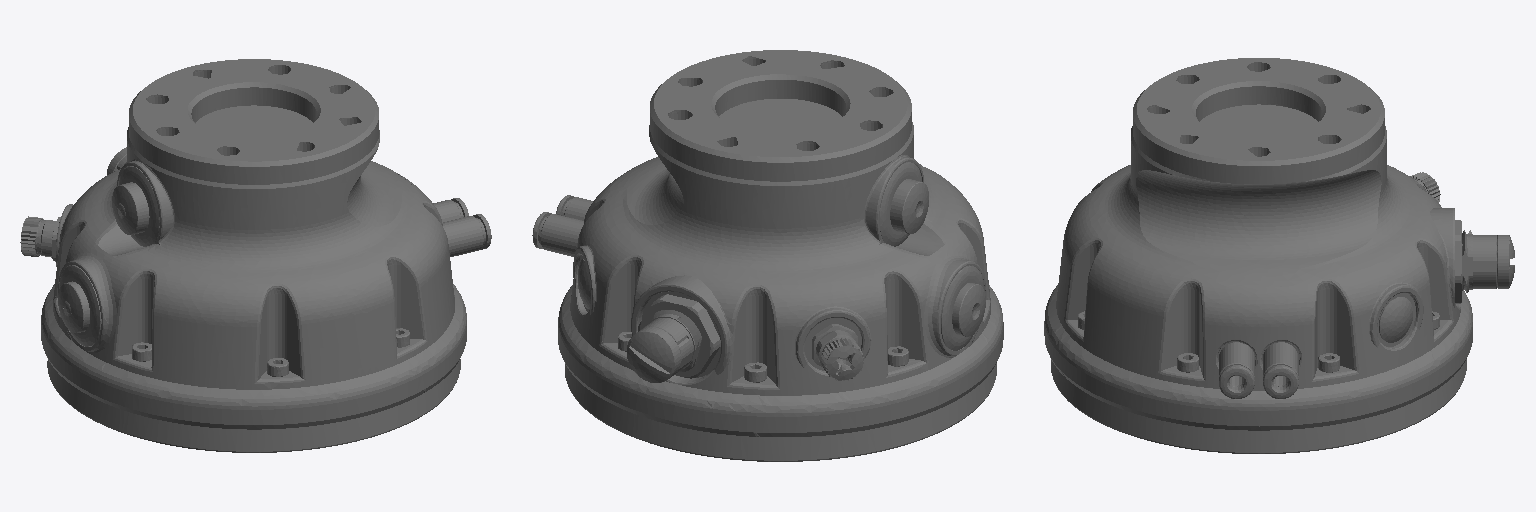
URDF robot description (iiwa):
<?xml version="1.0" ?>
<!-- =================================================================================== -->
<!-- |    This document was autogenerated by xacro from iiwa.config.xacro              | -->
<!-- |    EDITING THIS FILE BY HAND IS NOT RECOMMENDED                                 | -->
<!-- =================================================================================== -->
<!-- Kuka iiwa 7DoF manipulator -->
<robot name="iiwa">
  <!-- Used for fixing robot -->
  <link name="world"/>
  <material name="gray">
    <color rgba="0.5 0.5 0.5 1.0"/>
  </material>
  <link name="iiwa_base" type="fixed"/>
  <joint name="iiwa_root_joint" type="fixed">
    <origin rpy="0 0 0" xyz="0 0 0 "/>
    <parent link="world"/>
    <child link="iiwa_base"/>
  </joint>
  <joint name="iiwa_base_joint" type="fixed">
    <origin rpy="0.0 0 0" xyz="0 0 0"/>
    <parent link="iiwa_base"/>
    <child link="link_0"/>
  </joint>
  <link name="link_0">
    <visual>
      <origin rpy="0.0 0 0" xyz="0 0 0"/>
      <geometry>
        <mesh filename="package://wbc_ros/models/meshes/lbr_iiwa_14_r820/visual/base_link.dae"/>
      </geometry>
    </visual>
    <collision>
      <origin rpy="0 0 0" xyz="0 0 0"/>
      <geometry>
        <mesh filename="package://wbc_ros/models/meshes/lbr_iiwa_14_r820/collision/base_link.stl"/>
      </geometry>
    </collision>
    <inertial>
      <origin rpy="0 0 0" xyz="-0.1 0 0.07"/>
      <mass value="5"/>
      <inertia ixx="0.05" ixy="0" ixz="0" iyy="0.06" iyz="0" izz="0.03"/>
    </inertial>
  </link>
  <link name="link_1">
    <visual>
      <origin rpy="0 0 0" xyz="0 0 0"/>
      <geometry>
        <mesh filename="package://wbc_ros/models/meshes/lbr_iiwa_14_r820/visual/link_1.dae"/>
      </geometry>
    </visual>
    <collision>
      <origin rpy="0 0 0" xyz="0 0 0"/>
      <geometry>
        <mesh filename="package://wbc_ros/models/meshes/lbr_iiwa_14_r820/collision/link_1.stl"/>
      </geometry>
    </collision>
    <inertial>
      <origin rpy="0 0 0" xyz="0 -0.03 0.12"/>
      <mass value="4"/>
      <inertia ixx="0.1" ixy="0" ixz="0" iyy="0.09" iyz="0" izz="0.02"/>
    </inertial>
  </link>
  <link name="link_2">
    <visual>
      <origin rpy="0 0 0" xyz="0 0 0"/>
      <geometry>
        <mesh filename="package://wbc_ros/models/meshes/lbr_iiwa_14_r820/visual/link_2.dae"/>
      </geometry>
    </visual>
    <collision>
      <origin rpy="0 0 0" xyz="0 0 0"/>
      <geometry>
        <mesh filename="package://wbc_ros/models/meshes/lbr_iiwa_14_r820/collision/link_2.stl"/>
      </geometry>
    </collision>
    <inertial>
      <origin rpy="0 0 0" xyz="0.0003 0.059 0.042"/>
      <mass value="4"/>
      <inertia ixx="0.05" ixy="0" ixz="0" iyy="0.018" iyz="0" izz="0.044"/>
    </inertial>
  </link>
  <link name="link_3">
    <visual>
      <origin rpy="0 0 0" xyz="0 0 0"/>
      <geometry>
        <mesh filename="package://wbc_ros/models/meshes/lbr_iiwa_14_r820/visual/link_3.dae"/>
      </geometry>
    </visual>
    <collision>
      <origin rpy="0 0 0" xyz="0 0 0"/>
      <geometry>
        <mesh filename="package://wbc_ros/models/meshes/lbr_iiwa_14_r820/collision/link_3.stl"/>
      </geometry>
    </collision>
    <inertial>
      <origin rpy="0 0 0" xyz="0 0.03 0.13"/>
      <mass value="3"/>
      <inertia ixx="0.08" ixy="0" ixz="0" iyy="0.075" iyz="0" izz="0.01"/>
    </inertial>
  </link>
  <link name="link_4">
    <visual>
      <origin rpy="0 0 0" xyz="0 0 0"/>
      <geometry>
        <mesh filename="package://wbc_ros/models/meshes/lbr_iiwa_14_r820/visual/link_4.dae"/>
      </geometry>
    </visual>
    <collision>
      <origin rpy="0 0 0" xyz="0 0 0"/>
      <geometry>
        <mesh filename="package://wbc_ros/models/meshes/lbr_iiwa_14_r820/collision/link_4.stl"/>
      </geometry>
    </collision>
    <inertial>
      <origin rpy="0 0 0" xyz="0 0.067 0.034"/>
      <mass value="2.7"/>
      <inertia ixx="0.03" ixy="0" ixz="0" iyy="0.01" iyz="0" izz="0.029"/>
    </inertial>
  </link>
  <link name="link_5">
    <visual>
      <origin rpy="0 0 0" xyz="0 0 0"/>
      <geometry>
        <mesh filename="package://wbc_ros/models/meshes/lbr_iiwa_14_r820/visual/link_5.dae"/>
      </geometry>
    </visual>
    <collision>
      <origin rpy="0 0 0" xyz="0 0 0"/>
      <geometry>
        <mesh filename="package://wbc_ros/models/meshes/lbr_iiwa_14_r820/collision/link_5.stl"/>
      </geometry>
    </collision>
    <inertial>
      <origin rpy="0 0 0" xyz="0.0001 0.021 0.076"/>
      <mass value="1.7"/>
      <inertia ixx="0.02" ixy="0" ixz="0" iyy="0.018" iyz="0" izz="0.005"/>
    </inertial>
  </link>
  <link name="link_6">
    <visual>
      <origin rpy="0 0 0" xyz="0 0 0"/>
      <geometry>
        <mesh filename="package://wbc_ros/models/meshes/lbr_iiwa_14_r820/visual/link_6.dae"/>
      </geometry>
    </visual>
    <collision>
      <origin rpy="0 0 0" xyz="0 0 0"/>
      <geometry>
        <mesh filename="package://wbc_ros/models/meshes/lbr_iiwa_14_r820/collision/link_6.stl"/>
      </geometry>
    </collision>
    <inertial>
      <origin rpy="0 0 0" xyz="0 0.0006 0.0004"/>
      <mass value="1.8"/>
      <inertia ixx="0.025" ixy="0" ixz="0" iyy="0.0136" iyz="0" izz="0.0247"/>
    </inertial>
  </link>
  <link name="link_7">
    <visual>
      <origin rpy="0 0 0" xyz="0 0 0.07"/>
      <material name="gray"/>
      <geometry>
        <mesh filename="package://wbc_ros/models/meshes/lbr_iiwa_14_r820/visual/link_7_2.stl" scale="0.001 0.001 0.001"/>
      </geometry>
    </visual>
    <collision>
      <origin rpy="0 0 0" xyz="0 0 0.07"/>
      <geometry>
        <mesh filename="package://wbc_ros/models/meshes/lbr_iiwa_14_r820/collision/link_7_2.stl" scale="0.001 0.001 0.001"/>
      </geometry>
    </collision>
    <inertial>
      <origin rpy="0 0 0" xyz="0 0 0.02"/>
      <mass value="0.42857142857142855"/>
      <!--this is for the MFT Pneumatisch flange-->
      <inertia ixx="0.01" ixy="0" ixz="0" iyy="0.01" iyz="0" izz="0.01"/>
    </inertial>
  </link>
  <link name="tool0"/>
  <joint name="joint_a1" type="revolute">
    <origin rpy="0 0 0" xyz="0 0 0"/>
    <parent link="link_0"/>
    <child link="link_1"/>
    <axis xyz="0 0 1"/>
    <limit effort="320" lower="-2.9668" upper="2.9668" velocity="1.4834"/>
  </joint>
  <joint name="joint_a2" type="revolute">
    <origin rpy="0 0 0" xyz="-0.00043624 0 0.36"/>
    <parent link="link_1"/>
    <child link="link_2"/>
    <axis xyz="0 1 0"/>
    <limit effort="320" lower="-2.0942" upper="2.0942" velocity="1.4834"/>
  </joint>
  <joint name="joint_a3" type="revolute">
    <origin rpy="0 0 0" xyz="0 0 0"/>
    <parent link="link_2"/>
    <child link="link_3"/>
    <axis xyz="0 0 1"/>
    <limit effort="176" lower="-2.9668" upper="2.9668" velocity="1.7452"/>
  </joint>
  <joint name="joint_a4" type="revolute">
    <origin rpy="0 0 0" xyz="0.00043624 0 0.42"/>
    <parent link="link_3"/>
    <child link="link_4"/>
    <axis xyz="0 -1 0"/>
    <limit effort="176" lower="-2.0942" upper="2.0942" velocity="1.3089"/>
  </joint>
  <joint name="joint_a5" type="revolute">
    <origin rpy="0 0 0" xyz="0 0 0"/>
    <parent link="link_4"/>
    <child link="link_5"/>
    <axis xyz="0 0 1"/>
    <limit effort="110" lower="-2.9668" upper="2.9668" velocity="2.2688"/>
  </joint>
  <joint name="joint_a6" type="revolute">
    <origin rpy="0 0 0" xyz="0 0 0.4"/>
    <parent link="link_5"/>
    <child link="link_6"/>
    <axis xyz="0 1 0"/>
    <limit effort="40" lower="-2.0942" upper="2.0942" velocity="2.356"/>
  </joint>
  <joint name="joint_a7" type="revolute">
    <origin rpy="0 0 0" xyz="0 0 0"/>
    <parent link="link_6"/>
    <child link="link_7"/>
    <axis xyz="0 0 1"/>
    <limit effort="40" lower="-3.0541" upper="3.0541" velocity="2.356"/>
  </joint>
  <joint name="joint_a7-tool0" type="fixed">
    <origin rpy="0 0 0" xyz="0 0 0.154"/>
    <parent link="link_7"/>
    <child link="tool0"/>
    <axis xyz="0 0 0"/>
  </joint>
  <ros2_control name="iiwaRobot" type="system">
    <hardware>
      <plugin>fake_components/GenericSystem</plugin>
      <param name="state_following_offset">0.0</param>
    </hardware>
    <joint name="joint_a1">
      <command_interface name="position"/>
      <param name="min">-2.96</param>
      <param name="max">2.96</param>
      <state_interface name="position">
        <param name="initial_value">0.0</param>
      </state_interface>
      <state_interface name="velocity">
        <param name="initial_value">0.0</param>
      </state_interface>
      <state_interface name="effort">
        <param name="initial_value">0.0</param>
      </state_interface>
    </joint>
    <joint name="joint_a2">
      <command_interface name="position"/>
      <param name="min">-2.09</param>
      <param name="max">2.09</param>
      <state_interface name="position">
        <param name="initial_value">-0.7854</param>
      </state_interface>
      <state_interface name="velocity">
        <param name="initial_value">0.0</param>
      </state_interface>
      <state_interface name="effort">
        <param name="initial_value">0.0</param>
      </state_interface>
    </joint>
    <joint name="joint_a3">
      <command_interface name="position"/>
      <param name="min">-2.96</param>
      <param name="max">2.96</param>
      <state_interface name="position">
        <param name="initial_value">0.0</param>
      </state_interface>
      <state_interface name="velocity">
        <param name="initial_value">0.0</param>
      </state_interface>
      <state_interface name="effort">
        <param name="initial_value">0.0</param>
      </state_interface>
    </joint>
    <joint name="joint_a4">
      <command_interface name="position"/>
      <param name="min">-2.09</param>
      <param name="max">2.09</param>
      <state_interface name="position">
        <param name="initial_value">1.3962</param>
      </state_interface>
      <state_interface name="velocity">
        <param name="initial_value">0.0</param>
      </state_interface>
      <state_interface name="effort">
        <param name="initial_value">0.0</param>
      </state_interface>
    </joint>
    <joint name="joint_a5">
      <command_interface name="position"/>
      <param name="min">-2.96</param>
      <param name="max">2.96</param>
      <state_interface name="position">
        <param name="initial_value">0.0</param>
      </state_interface>
      <state_interface name="velocity">
        <param name="initial_value">0.0</param>
      </state_interface>
      <state_interface name="effort">
        <param name="initial_value">0.0</param>
      </state_interface>
    </joint>
    <joint name="joint_a6">
      <command_interface name="position"/>
      <param name="min">-2.09</param>
      <param name="max">2.09</param>
      <state_interface name="position">
        <param name="initial_value">0.6109</param>
      </state_interface>
      <state_interface name="velocity">
        <param name="initial_value">0.0</param>
      </state_interface>
      <state_interface name="effort">
        <param name="initial_value">0.0</param>
      </state_interface>
    </joint>
    <joint name="joint_a7">
      <command_interface name="position"/>
      <param name="min">-3.05</param>
      <param name="max">3.05</param>
      <state_interface name="position">
        <param name="initial_value">0.0</param>
      </state_interface>
      <state_interface name="velocity">
        <param name="initial_value">0.0</param>
      </state_interface>
      <state_interface name="effort">
        <param name="initial_value">0.0</param>
      </state_interface>
    </joint>
    <sensor name="external_torque_sensor">
      <state_interface name="external_torque.joint_a1"/>
      <state_interface name="external_torque.joint_a2"/>
      <state_interface name="external_torque.joint_a3"/>
      <state_interface name="external_torque.joint_a4"/>
      <state_interface name="external_torque.joint_a5"/>
      <state_interface name="external_torque.joint_a6"/>
      <state_interface name="external_torque.joint_a7"/>
    </sensor>
  </ros2_control>
</robot>

--- What the picture shows (computed from the rendered views, not written in the file) ---
Views: 3 orthographic renders of the robot side by side, from view 1: azimuth 30°, elevation 25°; view 2: azimuth 150°, elevation 25°; view 3: azimuth 270°, elevation 25°.
Robot: iiwa — 11 links, 10 joints (7 revolute, 3 fixed); root link world; default pose: every joint at zero.
Links seen in each view (by area): view 1: link_7; view 2: link_7; view 3: link_7.
Boxes of the visible links, bbox=[...] form: link_7: bbox=[20, 59, 491, 452]; link_7: bbox=[532, 50, 1003, 461]; link_7: bbox=[1044, 58, 1514, 453].
Bounding box of the posed robot: 0.1177 × 0.1176 × 0.0809 m (x, y, z).
1 mesh visuals loaded from 8 distinct referenced files (1 binary STL); not drawn: 7 (reference not matched to a file when rendering).